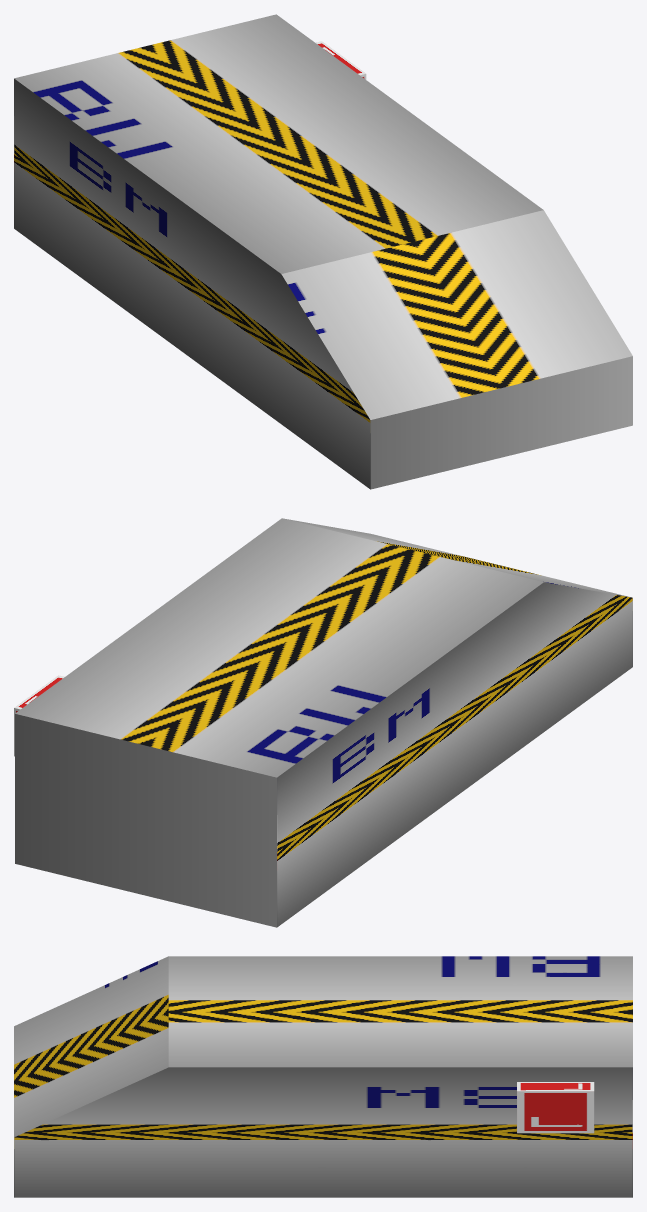
The model's file is wedge.gltf.
The picture shows the model from 3 angles, top to bottom: view 1: azimuth 30°, elevation 25°; view 2: azimuth 150°, elevation 25°; view 3: azimuth 270°, elevation 25°; orthographic projection. The views are drawn at different scales.
Visible parts, largest first — view 1: body; view 2: body; view 3: body.
Part boxes in pixels (x1,y1,x2,y2): body: [14, 14, 632, 489]; body: [14, 518, 632, 927]; body: [14, 956, 632, 1197].
Size of the model in its own units: 1.85 by 0.93 by 4.
2 materials, 2 textured.
